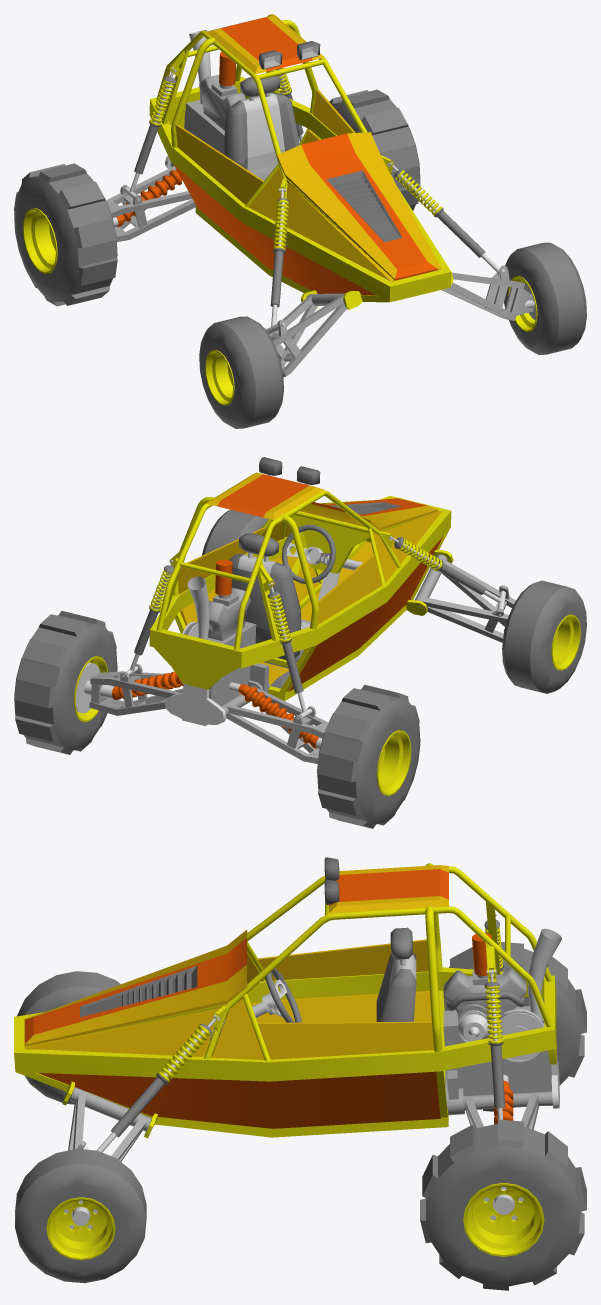
File: DuneBuggy.fbx
3 views of the same model, one above another, from view 1: azimuth 30°, elevation 25°; view 2: azimuth 150°, elevation 25°; view 3: azimuth 270°, elevation 25° (orthographic). The views are drawn at different scales.
Visible parts, largest first — view 1: frame, front_top_cover, rear_right_tyre, front_right_tyre, front_left_tyer, seat_top, bottom_right_cover, rear_left_tyre, roof_cover, front_right_brace, front_right_cover, rear_right_brace (+12 smaller); view 2: frame, rear_right_tyre, rear_left_tyre, front_right_tyre, seat_top, bottom_right_cover, engine, rear_right_brace, roof_cover, front_right_brace, rear_left_brace, front_top_cover (+20 smaller); view 3: frame, rear_left_tyre, bottom_left_cover, front_left_tyer, front_top_cover, engine, left_door_cover, roof_cover, rear_left_rimm, front_left_cover, rear_right_tyre, right_door_cover (+14 smaller).
Part boxes in pixels (bbox=[...]): frame: bbox=[149, 14, 453, 309]; front_top_cover: bbox=[277, 132, 437, 280]; rear_right_tyre: bbox=[14, 163, 117, 306]; front_right_tyre: bbox=[199, 316, 283, 428]; front_left_tyer: bbox=[504, 242, 586, 354]; seat_top: bbox=[223, 76, 299, 180]; bottom_right_cover: bbox=[174, 165, 376, 295]; rear_left_tyre: bbox=[329, 89, 420, 210]; roof_cover: bbox=[206, 15, 323, 74]; front_right_brace: bbox=[264, 293, 346, 377]; front_right_cover: bbox=[285, 182, 394, 281]; rear_right_brace: bbox=[106, 162, 195, 241]; frame: bbox=[149, 474, 453, 700]; rear_right_tyre: bbox=[317, 684, 420, 828]; rear_left_tyre: bbox=[14, 611, 117, 754]; front_right_tyre: bbox=[502, 580, 586, 693]; seat_top: bbox=[229, 533, 301, 659]; bottom_right_cover: bbox=[288, 535, 443, 691]; engine: bbox=[198, 587, 269, 705]; rear_right_brace: bbox=[220, 686, 328, 763]; roof_cover: bbox=[206, 472, 323, 520]; front_right_brace: bbox=[415, 554, 515, 642]; rear_left_brace: bbox=[89, 664, 183, 715]; front_top_cover: bbox=[300, 498, 437, 530]; frame: bbox=[14, 863, 556, 1138]; rear_left_tyre: bbox=[420, 1119, 586, 1290]; bottom_left_cover: bbox=[38, 1071, 440, 1128]; front_left_tyer: bbox=[15, 1149, 146, 1283]; front_top_cover: bbox=[24, 930, 247, 1046]; engine: bbox=[443, 967, 551, 1114]; left_door_cover: bbox=[258, 1021, 433, 1059]; roof_cover: bbox=[328, 865, 448, 913]; rear_left_rimm: bbox=[463, 1183, 544, 1256]; front_left_cover: bbox=[24, 1008, 220, 1056]; rear_right_tyre: bbox=[444, 942, 586, 1111]; right_door_cover: bbox=[257, 939, 428, 980].
Bounding box in the file's own units: 185 × 132 × 216.
